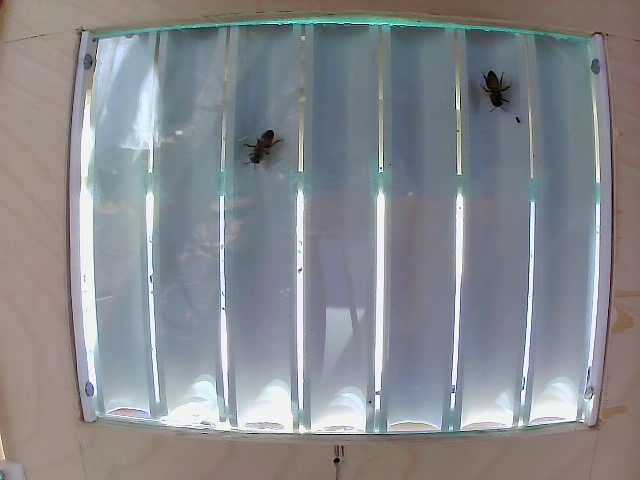bee: (243, 130, 285, 171), (484, 67, 517, 107)
